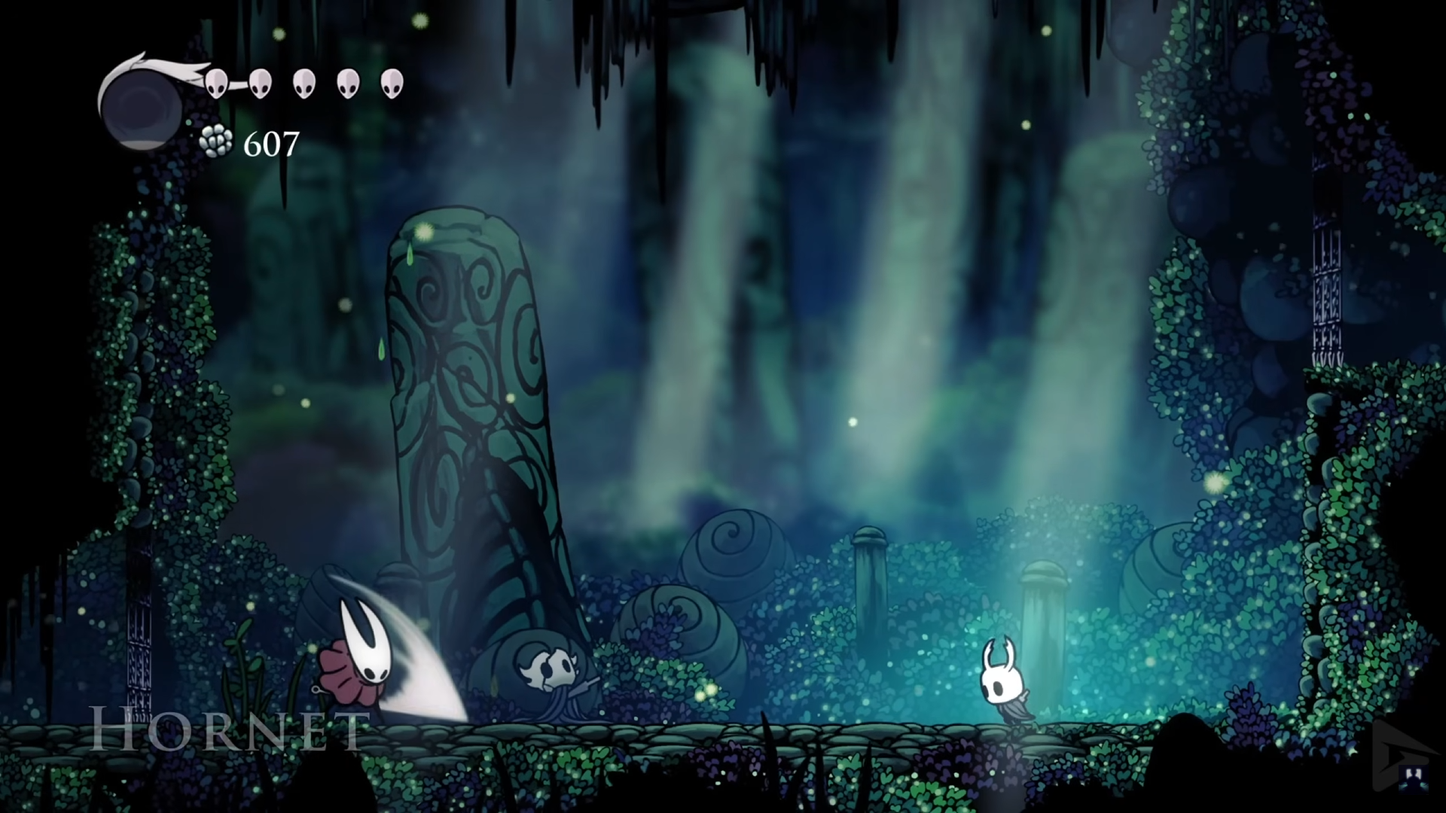HK: (972, 635, 1036, 723)
